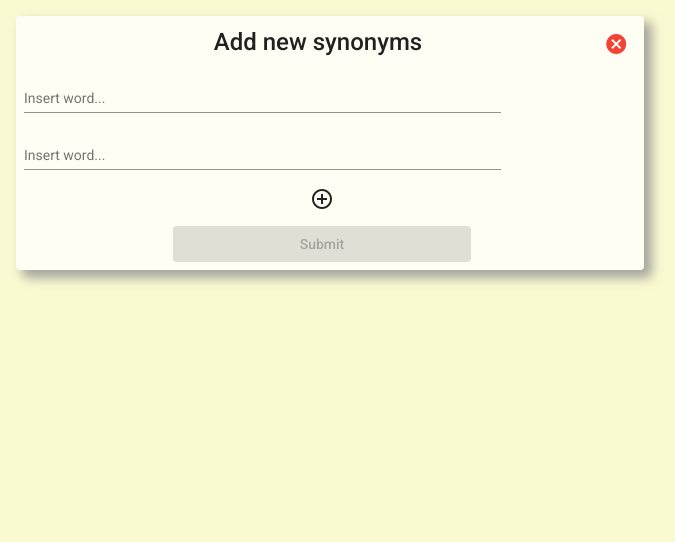
Test case: Full Workflow Test › Add first group of synonyms
In the 1st field with test id "input-field": (263, 99) 24,91 -> 501,107, type "synonymA"
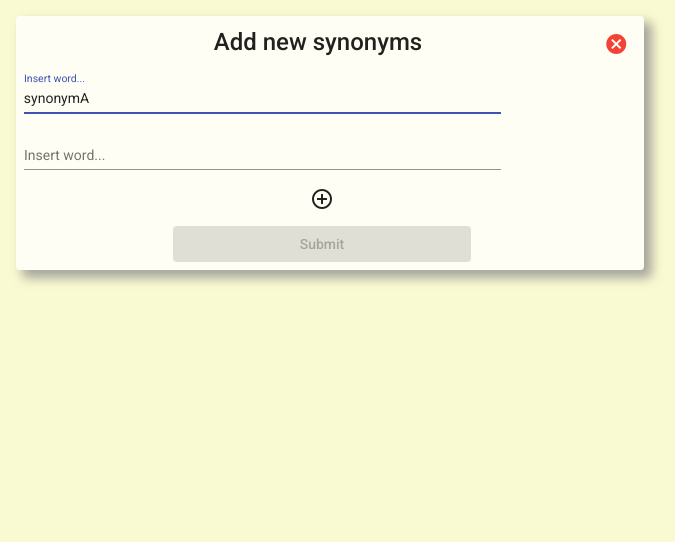
In the 2nd field with test id "input-field": (263, 156) 24,148 -> 501,164, type "synonymB"
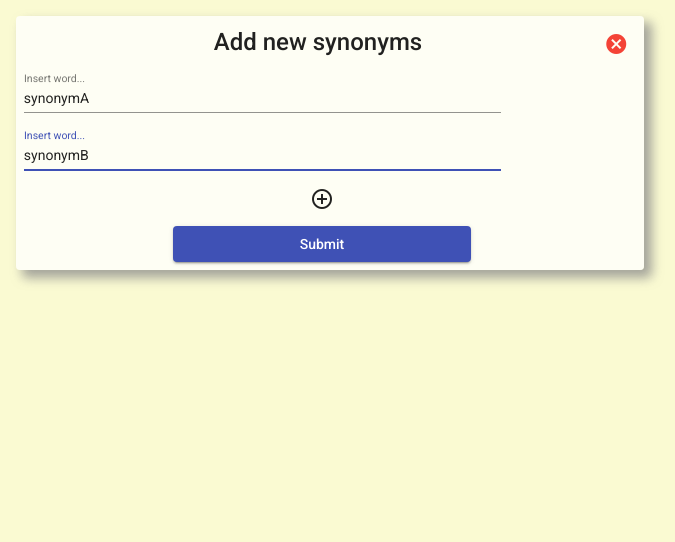
Click the button with test id "submit-add-new": (322, 244) 173,226 -> 471,262
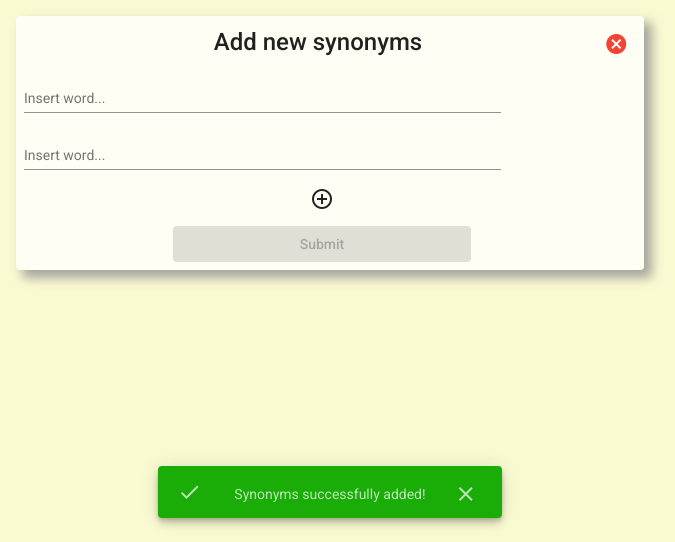
Result: the element with test id "snack-bar" is shown at 174,480 -> 486,504
Result: the text "Synonyms successfully added!" is shown at 234,486 -> 426,502
